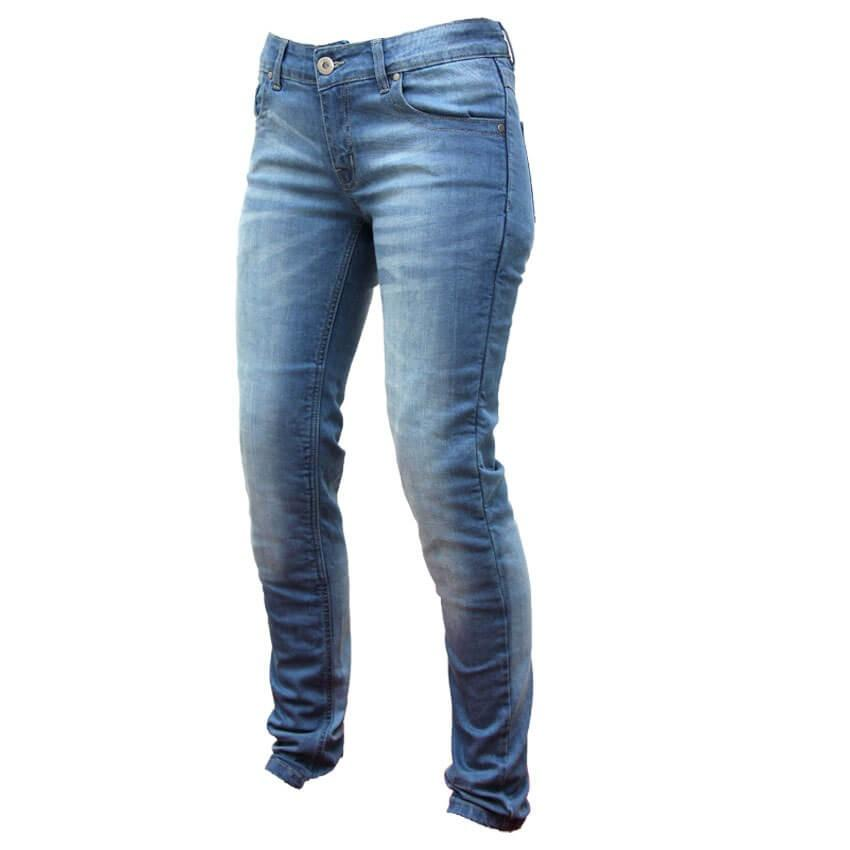Jeans: (226, 6, 542, 838)
